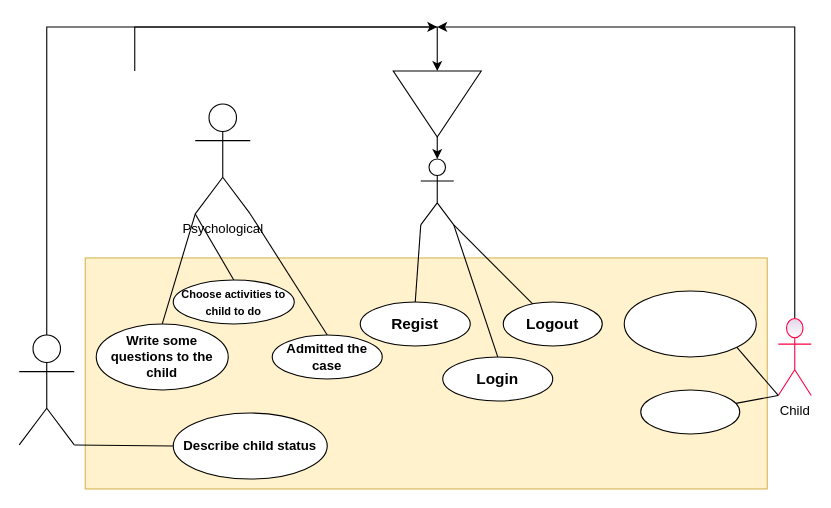
Some shapes in this 831 by 508 pixel diagram are drawn without their labels. Each missing label, with the box of its shape:
Answers the counselor's questions: (623, 290, 756, 357)
Do activities: (640, 389, 740, 434)
Guardian: (18, 334, 74, 445)
Parent: (420, 158, 454, 225)
System: (84, 257, 767, 489)
